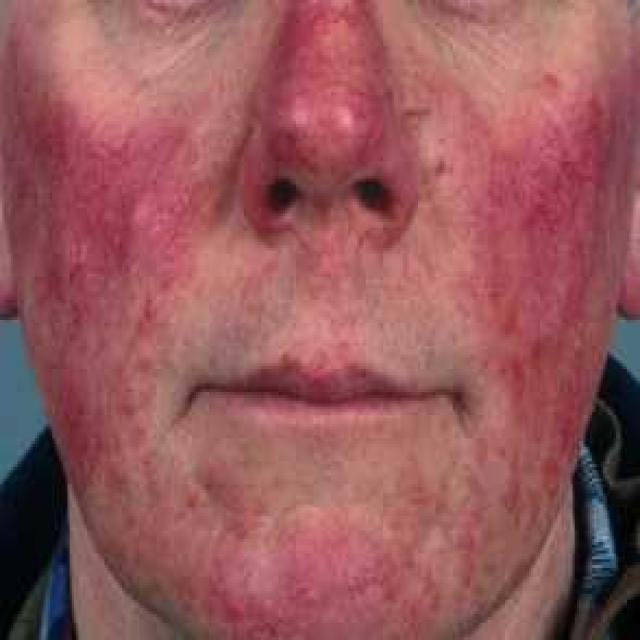Rosacea: (13, 84, 204, 499), (461, 81, 610, 510), (187, 505, 451, 640)
